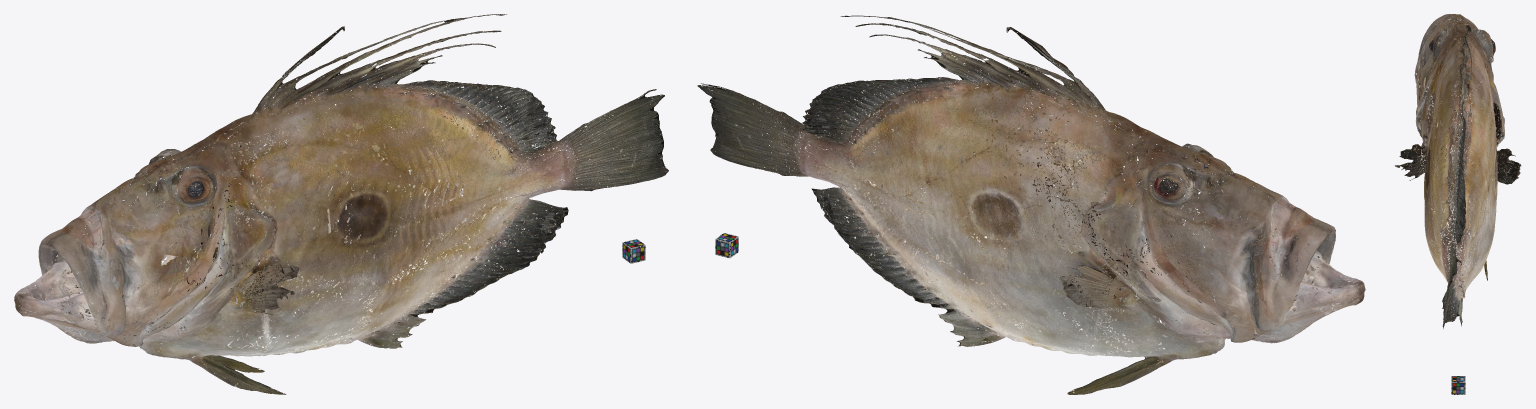
File: scan_johndory.glb
3 views of the same model, side by side, from view 1: azimuth 30°, elevation 25°; view 2: azimuth 150°, elevation 25°; view 3: azimuth 270°, elevation 25° (orthographic). The views are drawn at different scales.
Parts seen in each view (by area): view 1: Object_6, Object_14, Object_21; view 2: Object_14, Object_6, Object_21; view 3: Object_14, Object_6, Object_21, Object_4.
Part boxes in pixels (<box>): Object_6: <box>14,14,666,394</box>; Object_14: <box>14,14,668,393</box>; Object_21: <box>14,14,668,394</box>; Object_14: <box>697,15,1363,392</box>; Object_6: <box>699,15,1364,394</box>; Object_21: <box>701,15,1365,394</box>; Object_14: <box>1395,15,1520,328</box>; Object_6: <box>1395,14,1520,326</box>; Object_21: <box>1395,14,1521,326</box>; Object_4: <box>1451,376,1465,394</box>.
Size of the model in its own units: 22.94 by 11.56 by 4.63.
4 materials, 4 textured.
